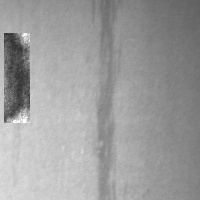inclusion: (90, 1, 125, 197)
patches: (4, 33, 30, 123)
